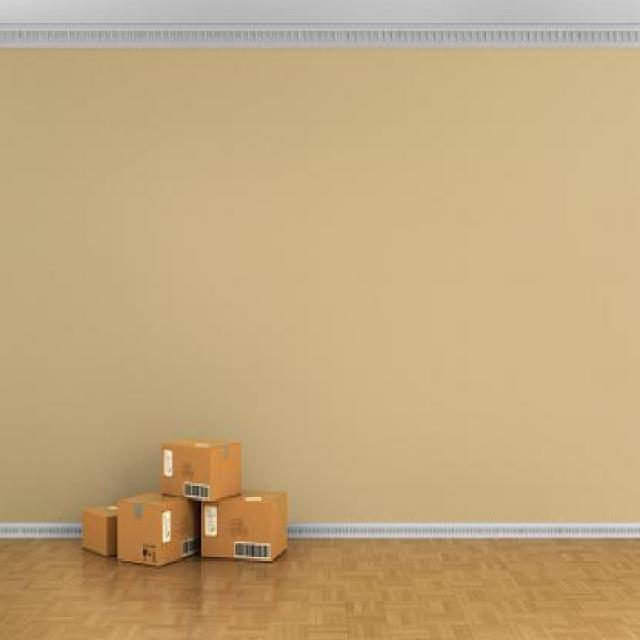box: (198, 486, 289, 565), (119, 487, 200, 567), (156, 436, 244, 509), (79, 500, 122, 558)
